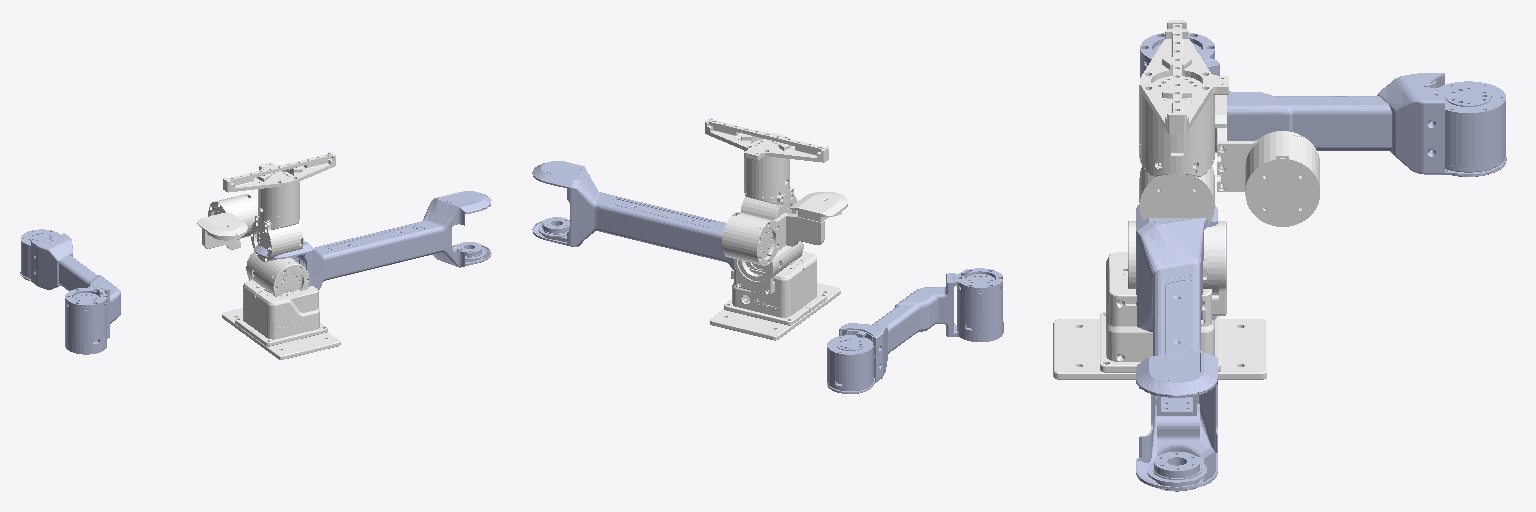
The robot description file, URDF, robot "S1_urdf":
<?xml version="1.0" encoding="utf-8"?>
<!-- This URDF was automatically created by SolidWorks to URDF Exporter! Originally created by Stephen Brawner (brawner@gmail.com) 
     Commit Version: 1.6.0-4-g7f85cfe  Build Version: 1.6.7995.38578
     For more information, please see http://wiki.ros.org/sw_urdf_exporter -->
<robot
  name="S1_urdf">
  <link
    name="base_link">
    <inertial>
      <origin
        xyz="-0.00380858444094159 -2.95623718748507E-06 -0.00812774108594989"
        rpy="0 0 0" />
      <mass
        value="0.20806063959613" />
      <inertia
        ixx="0.000111582714512014"
        ixy="-2.09920975933723E-08"
        ixz="-1.21102241506082E-07"
        iyy="0.000111825104100504"
        iyz="7.58291968234202E-09"
        izz="0.000141736244263584" />
    </inertial>
    <visual>
      <origin
        xyz="0 0 0"
        rpy="0 0 0" />
      <geometry>
        <mesh
          filename="package://s1_description/meshes/base_link.STL" />
      </geometry>
      <material
        name="">
        <color
          rgba="1 1 1 1" />
      </material>
    </visual>
    <collision>
      <origin
        xyz="0 0 0"
        rpy="0 0 0" />
      <geometry>
        <mesh
          filename="package://s1_description/meshes/base_link.STL" />
      </geometry>
    </collision>
  </link>
  <link
    name="1_Link">
    <inertial>
      <origin
        xyz="-7.80625564189563E-18 -5.00000000002408E-06 0.0590653989286232"
        rpy="0 0 0" />
      <mass
        value="0.240435362198768" />
      <inertia
        ixx="0.00018630832355269"
        ixy="1.64953324173944E-20"
        ixz="-3.36777610311687E-21"
        iyy="0.000128091509815163"
        iyz="1.45060421196015E-21"
        izz="0.000164031471753809" />
    </inertial>
    <visual>
      <origin
        xyz="0 0 0"
        rpy="0 0 0" />
      <geometry>
        <mesh
          filename="package://s1_description/meshes/1_Link.STL" />
      </geometry>
      <material
        name="">
        <color
          rgba="1 1 1 1" />
      </material>
    </visual>
    <collision>
      <origin
        xyz="0 0 0"
        rpy="0 0 0" />
      <geometry>
        <mesh
          filename="package://s1_description/meshes/1_Link.STL" />
      </geometry>
    </collision>
  </link>
  <joint
    name="1joint"
    type="revolute">
    <origin
      xyz="0 0 0"
      rpy="0 0 0" />
    <parent
      link="base_link" />
    <child
      link="1_Link" />
    <axis
      xyz="0 0 1" />
    <limit
      lower="-2.967"
      upper="2.967"
      effort="9"
      velocity="3" />
  </joint>
  <link
    name="2_Link">
    <inertial>
      <origin
        xyz="-0.251879222304569 0.000517956528807904 -7.29157146039383E-05"
        rpy="0 0 0" />
      <mass
        value="0.278959835711776" />
      <inertia
        ixx="0.000163800465912938"
        ixy="2.62737202022501E-07"
        ixz="1.39606807736436E-05"
        iyy="0.000968577582996889"
        iyz="7.55245046340043E-08"
        izz="0.00100988914340768" />
    </inertial>
    <visual>
      <origin
        xyz="0 0 0"
        rpy="0 0 0" />
      <geometry>
        <mesh
          filename="package://s1_description/meshes/2_Link.STL" />
      </geometry>
      <material
        name="">
        <color
          rgba="0.792156862745098 0.819607843137255 0.933333333333333 1" />
      </material>
    </visual>
    <collision>
      <origin
        xyz="0 0 0"
        rpy="0 0 0" />
      <geometry>
        <mesh
          filename="package://s1_description/meshes/2_Link.STL" />
      </geometry>
    </collision>
  </link>
  <joint
    name="2joint"
    type="revolute">
    <origin
      xyz="0 0 0.06525"
      rpy="0 0 0" />
    <parent
      link="1_Link" />
    <child
      link="2_Link" />
    <axis
      xyz="0 1 0" />
    <limit
      lower="0"
      upper="3.14"
      effort="9"
      velocity="3" />
  </joint>
  <link
    name="3_Link">
    <inertial>
      <origin
        xyz="0.19037840176035 -0.00362158780107993 0.0563752101995602"
        rpy="0 0 0" />
      <mass
        value="0.196496171403485" />
      <inertia
        ixx="7.62290489044243E-05"
        ixy="1.27450659123862E-05"
        ixz="-1.40318828274595E-05"
        iyy="0.000364814635826903"
        iyz="3.20235247907783E-07"
        izz="0.000356529119624131" />
    </inertial>
    <visual>
      <origin
        xyz="0 0 0"
        rpy="0 0 0" />
      <geometry>
        <mesh
          filename="package://s1_description/meshes/3_Link.STL" />
      </geometry>
      <material
        name="">
        <color
          rgba="0.796078431372549 0.823529411764706 0.937254901960784 1" />
      </material>
    </visual>
    <collision>
      <origin
        xyz="0 0 0"
        rpy="0 0 0" />
      <geometry>
        <mesh
          filename="package://s1_description/meshes/3_Link.STL" />
      </geometry>
    </collision>
  </link>
  <joint
    name="3joint"
    type="revolute">
    <origin
      xyz="-0.3 0.000494999999999956 0"
      rpy="0 0 0" />
    <parent
      link="2_Link" />
    <child
      link="3_Link" />
    <axis
      xyz="0 -1 0" />
    <limit
      lower="0"
      upper="3.4"
      effort="9"
      velocity="3" />
  </joint>
  <link
    name="4_Link">
    <inertial>
      <origin
        xyz="0.0683945378314372 0.00252083182130338 0.0485251695946249"
        rpy="0 0 0" />
      <mass
        value="0.160912102201024" />
      <inertia
        ixx="0.000134927190897753"
        ixy="2.36812899894328E-05"
        ixz="-7.64926182833173E-05"
        iyy="0.000219616653698238"
        iyz="1.95242373799905E-05"
        izz="0.000157365120045885" />
    </inertial>
    <visual>
      <origin
        xyz="0 0 0"
        rpy="0 0 0" />
      <geometry>
        <mesh
          filename="package://s1_description/meshes/4_Link.STL" />
      </geometry>
      <material
        name="">
        <color
          rgba="1 1 1 1" />
      </material>
    </visual>
    <collision>
      <origin
        xyz="0 0 0"
        rpy="0 0 0" />
      <geometry>
        <mesh
          filename="package://s1_description/meshes/4_Link.STL" />
      </geometry>
    </collision>
  </link>
  <joint
    name="4joint"
    type="revolute">
    <origin
      xyz="0.22 -0.000494999999999959 0.057"
      rpy="0 0 0" />
    <parent
      link="3_Link" />
    <child
      link="4_Link" />
    <axis
      xyz="0 1 0" />
    <limit
      lower="-1.57"
      upper="1.518"
      effort="3"
      velocity="3" />
  </joint>
  <link
    name="5_Link">
    <inertial>
      <origin
        xyz="0.000956923597758259 -9.47220826080786E-11 -0.0552062581443398"
        rpy="0 0 0" />
      <mass
        value="0.148471219823558" />
      <inertia
        ixx="7.22679916508393E-05"
        ixy="1.54971779141034E-11"
        ixz="9.23231896036375E-07"
        iyy="7.08257113400729E-05"
        iyz="-9.66138853764062E-13"
        izz="6.22190701090223E-05" />
    </inertial>
    <visual>
      <origin
        xyz="0 0 0"
        rpy="0 0 0" />
      <geometry>
        <mesh
          filename="package://s1_description/meshes/5_Link.STL" />
      </geometry>
      <material
        name="">
        <color
          rgba="1 1 1 1" />
      </material>
    </visual>
    <collision>
      <origin
        xyz="0 0 0"
        rpy="0 0 0" />
      <geometry>
        <mesh
          filename="package://s1_description/meshes/5_Link.STL" />
      </geometry>
    </collision>
  </link>
  <joint
    name="5joint"
    type="revolute">
    <origin
      xyz="0.0807873370477526 0 0.0591736792802548"
      rpy="0 0 0" />
    <parent
      link="4_Link" />
    <child
      link="5_Link" />
    <axis
      xyz="0 0 -1" />
    <limit
      lower="-1.57"
      upper="1.57"
      effort="3"
      velocity="3" />
  </joint>


  <link 
    name="6_Link">
    <inertial>
      <mass value="0.001" />
      <origin xyz="0.02 0 0" />
      <inertia ixx="0.0000001" ixy="0" ixz="0" iyy="0.0000001" iyz="0" izz="0.0000001" />
    </inertial>
    <visual>
      <origin xyz="0.0 0 0" rpy="0 1.57 0" />
      <geometry>
        <mesh filename="package://s1_description/meshes/flange.STL" />
      </geometry>
      <material name="">
        <color rgba="1 1 1 1" />
      </material>
    </visual>
    <collision>
      <origin xyz="0.0 0 0" rpy="0 1.57 0" />
      <geometry>
        <mesh filename="package://s1_description/meshes/flange.STL" />
      </geometry>
    </collision>
  </link>
  <joint
    name="6joint"
    type="revolute">
    <origin
      xyz="0.0312127 0 -0.059174"
      rpy="0 0 0" />
    <parent
      link="5_Link" />
    <child
      link="6_Link" />
    <axis
      xyz="1 0 0" />
    <limit
      lower="-1.57"
      upper="1.57"
      effort="3"
      velocity="3" />
  </joint>


  <link
    name="gripper_base">
    <inertial>
      <origin
        xyz="0.0626158316452318 3.32171805929316E-08 0.000434560337518708"
        rpy="0 0 0" />
      <mass
        value="0.191165521062463" />
      <inertia
        ixx="0.000155311638007212"
        ixy="-2.14307445217236E-11"
        ixz="1.09404285286489E-07"
        iyy="5.70485879493432E-05"
        iyz="5.2606926872787E-12"
        izz="0.000139085602087797" />
    </inertial>
    <visual>
      <origin
        xyz="0 0 0"
        rpy="0 0 0" />
      <geometry>
        <mesh
          filename="package://s1_description/meshes/6_Link.STL" />
      </geometry>
      <material
        name="">
        <color
          rgba="1 1 1 1" />
      </material>
    </visual>
    <collision>
      <origin
        xyz="0 0 0"
        rpy="0 0 0" />
      <geometry>
        <mesh
          filename="package://s1_description/meshes/6_Link.STL" />
      </geometry>
    </collision>
  </link>
  <joint
    name="joint6_to_gripper_base"
    type="fixed">
    <origin
      xyz="-0.029927 0 0.0"
      rpy="0 0 0" />
    <parent
      link="6_Link" />
    <child
      link="gripper_base" />
    <axis
      xyz="1 0 0" />
    <limit
      lower="-1.57"
      upper="1.57"
      effort="3"
      velocity="3" />
  </joint>


  <link
    name="7_1_Link">
    <inertial>
      <origin
        xyz="0 -0.016 0.016"
        rpy="0 0 0" />
      <mass
        value="0.0163456010029726" />
      <inertia
        ixx="1.09204000e-06" 
        ixy="0.00000000e+00" 
        ixz="0.00000000e+00"
        iyy="1.09204000e-06" 
        iyz="0.00000000e+00" 
        izz="1.09204000e-06" />
    </inertial>
    <visual>
      <origin
        xyz="0 0 0"
        rpy="0 0 0" />
      <geometry>
        <mesh
          filename="package://s1_description/meshes/7_1_Link.STL" />
      </geometry>
      <material
        name="">
        <color
          rgba="0.898039215686275 0.917647058823529 0.929411764705882 1" />
      </material>
    </visual>
    <collision>
      <origin
        xyz="0 0 0"
        rpy="0 0 0" />
      <geometry>
        <mesh
          filename="package://s1_description/meshes/7_1_Link.STL" />
      </geometry>
    </collision>
  </link>

  <link
    name="7_2_Link">
    <inertial>
      <origin
        xyz="0 0.016 0.016"
        rpy="0 0 0" />
      <mass
        value="0.0163456010029726" />
      <inertia
        ixx="1.09204000e-06" 
        ixy="0.00000000e+00" 
        ixz="0.00000000e+00"
        iyy="1.09204000e-06" 
        iyz="0.00000000e+00" 
        izz="1.09204000e-06" />
    </inertial>
    <visual>
      <origin
        xyz="0 0 0"
        rpy="0 0 0" />
      <geometry>
        <mesh
          filename="package://s1_description/meshes/7_2_Link.STL" />
      </geometry>
      <material
        name="">
        <color
          rgba="0.898039215686275 0.917647058823529 0.929411764705882 1" />
      </material>
    </visual>
    <collision>
      <origin
        xyz="0 0 0"
        rpy="0 0 0" />
      <geometry>
        <mesh
          filename="package://s1_description/meshes/7_2_Link.STL" />
      </geometry>
    </collision>
  </link>


  <joint
    name="7_1_joint"
    type="prismatic">
    <origin
      xyz="0.1 0.014 0.016"
      rpy="1.57 0 1.57" />
    <parent
      link="gripper_base" />
    <child
      link="7_1_Link" />
    <axis
      xyz="1 0 0" />
    <limit
      lower="0"
      upper="0.05"
      effort="3"
      velocity="3" />
  </joint>

  <joint
    name="7_2_joint"
    type="prismatic">
    <origin
      xyz="0.1 -0.014 -0.016"
      rpy="1.57 0 1.57" />
    <parent
      link="gripper_base" />
    <child
      link="7_2_Link" />
    <axis
      xyz="-1 0 0" />
    <limit
      lower="0"
      upper="0.05"
      effort="3"
      velocity="3" />
  </joint>

</robot>

--- What the picture shows (computed from the rendered views, not written in the file) ---
The picture shows the robot from 3 angles, left to right: view 1: azimuth 30°, elevation 25°; view 2: azimuth 150°, elevation 25°; view 3: azimuth 270°, elevation 25°; orthographic projection.
Model S1_urdf with 10 links and 9 joints (6 revolute, 2 prismatic, 1 fixed), rooted at base_link, posed every joint at zero.
Visible links, largest first — view 1: 2_Link, 3_Link, base_link, gripper_base, 4_Link, 1_Link, 5_Link; view 2: 3_Link, 2_Link, base_link, 4_Link, gripper_base, 1_Link, 5_Link; view 3: 3_Link, 2_Link, base_link, gripper_base, 4_Link, 5_Link, 1_Link.
Boxes of the visible links, <box> form: 2_Link: <box>254,191,491,289</box>; 3_Link: <box>20,229,120,354</box>; base_link: <box>222,280,340,359</box>; gripper_base: <box>223,152,335,226</box>; 4_Link: <box>197,194,257,249</box>; 1_Link: <box>246,251,309,296</box>; 5_Link: <box>251,215,303,261</box>; 3_Link: <box>827,268,1003,393</box>; 2_Link: <box>532,161,733,269</box>; base_link: <box>710,251,840,340</box>; 4_Link: <box>722,192,847,265</box>; gripper_base: <box>705,118,828,198</box>; 1_Link: <box>734,241,803,294</box>; 5_Link: <box>741,186,797,219</box>; 3_Link: <box>1140,33,1506,176</box>; 2_Link: <box>1136,204,1217,491</box>; base_link: <box>1053,252,1266,379</box>; gripper_base: <box>1139,20,1228,174</box>; 4_Link: <box>1215,95,1319,226</box>; 5_Link: <box>1139,157,1214,229</box>; 1_Link: <box>1128,221,1226,315</box>.
Bounding box of the posed robot: 0.6582 × 0.3429 × 0.2403 m (x, y, z).
7 mesh visuals loaded from 10 distinct referenced files (7 binary STL); not drawn: 3 (reference not matched to a file when rendering).
